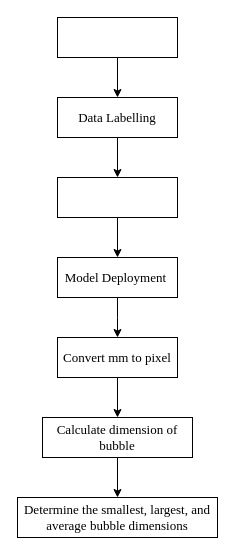
Image size: 235x555. Some labels were removed from this diagram. Here are the shapes that lost their labels. From the top down, the centre of each, then its label:
(117,37): Data Collection
(117,197): Training
